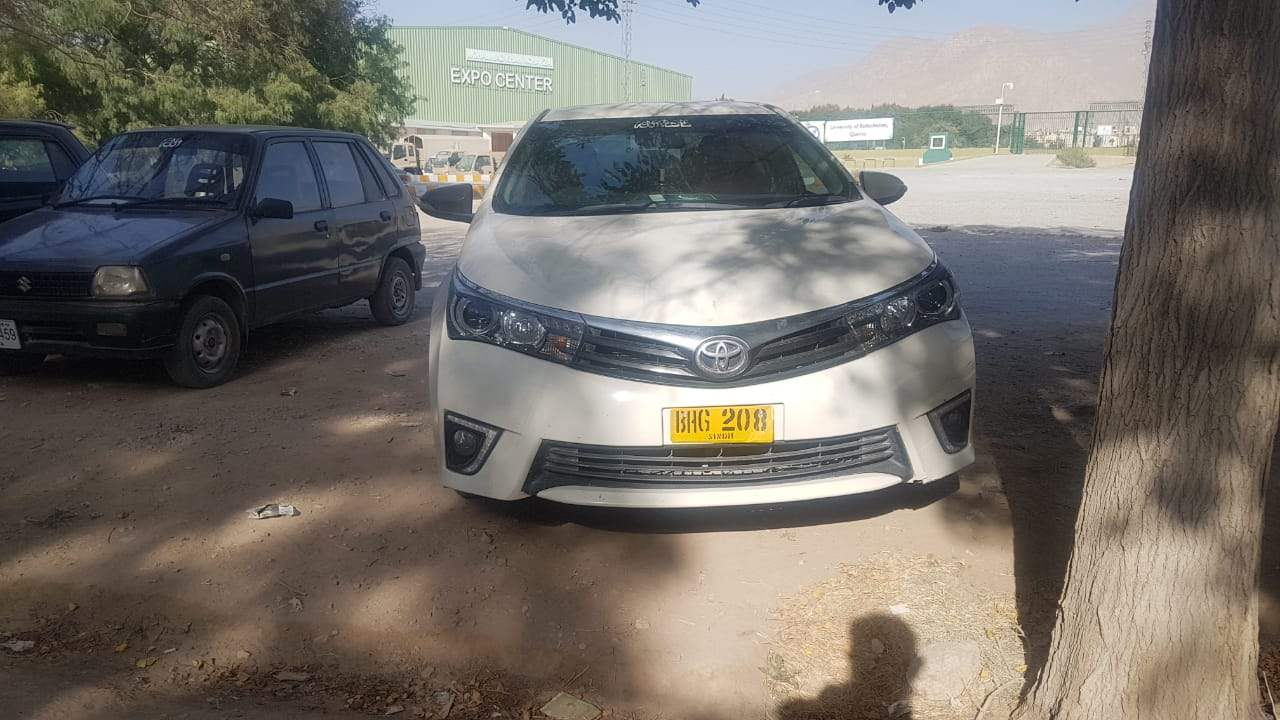license plate: (670, 409, 775, 445)
